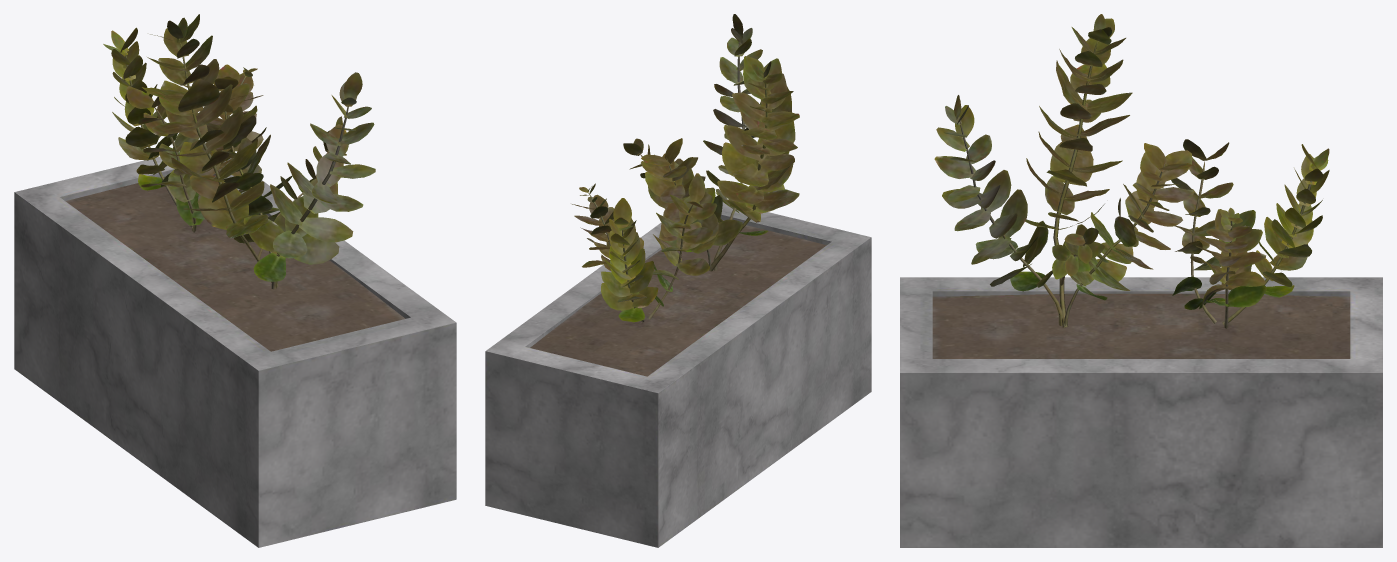
File: SM_Flowerpot_01.fbx
3 renders of one model, left to right at view 1: azimuth 30°, elevation 25°; view 2: azimuth 150°, elevation 25°; view 3: azimuth 270°, elevation 25°, orthographic. The views are drawn at different scales.
Visible parts, largest first — view 1: SM_Flowerpot_01_LOD0; view 2: SM_Flowerpot_01_LOD0; view 3: SM_Flowerpot_01_LOD0.
Boxes of the visible parts, x1,y1,x2,y2 form: SM_Flowerpot_01_LOD0: (14, 14, 456, 547); SM_Flowerpot_01_LOD0: (485, 14, 871, 547); SM_Flowerpot_01_LOD0: (900, 14, 1382, 547).
Bounding box in the file's own units: 63.62 × 126 × 129.
